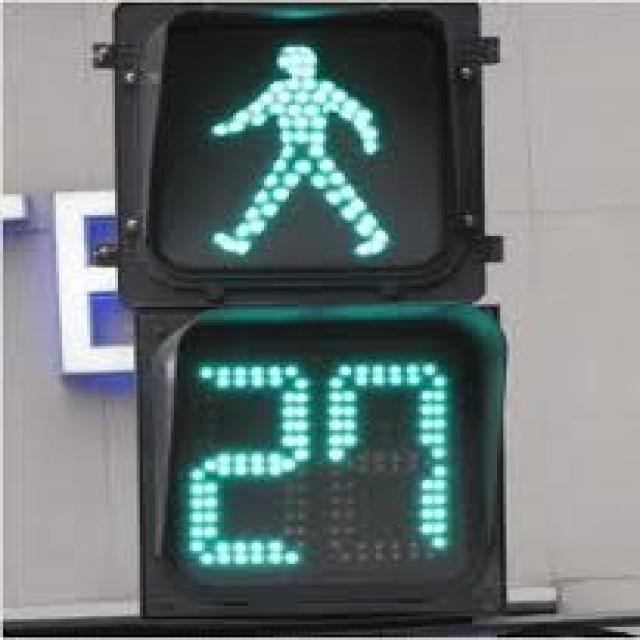green_light: (172, 29, 476, 586)
